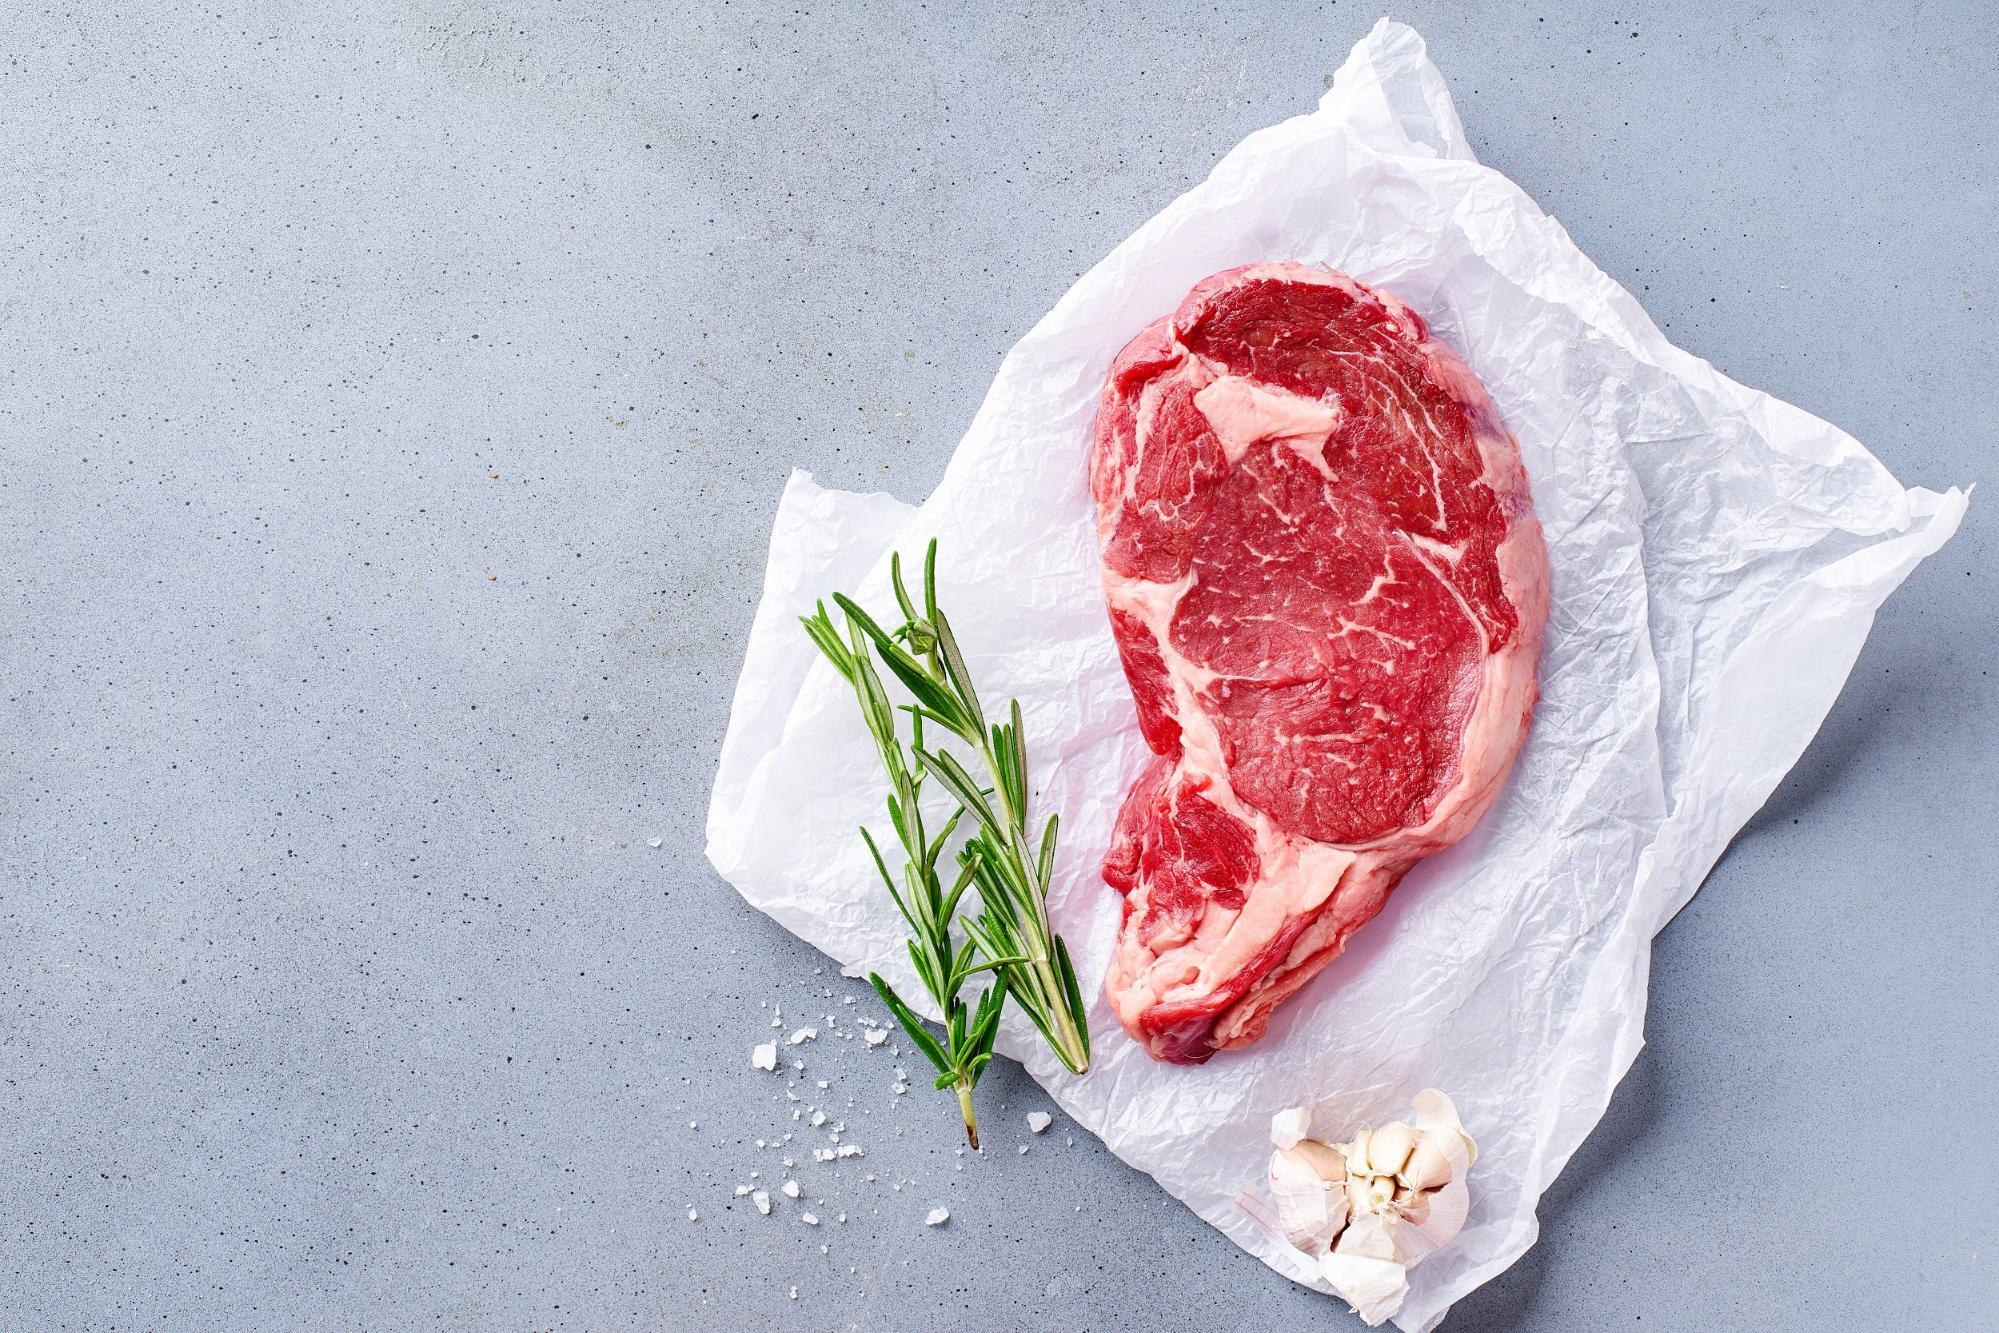beef: (1235, 666, 1999, 1333)
